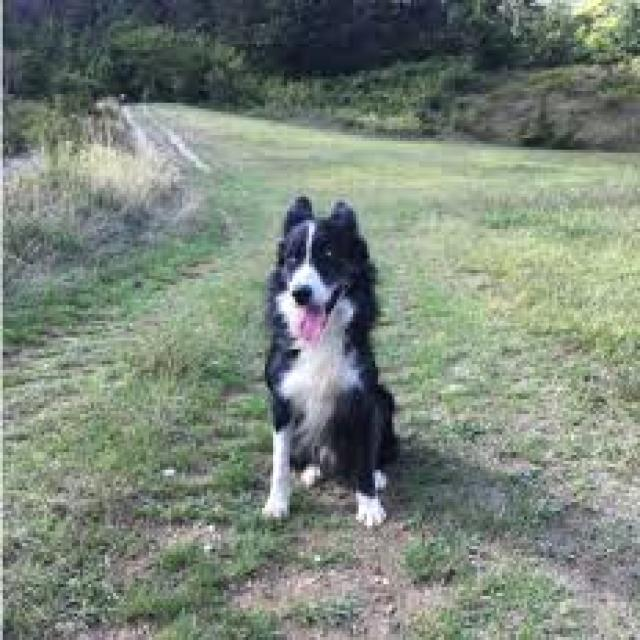BORDER_COLLIE: (236, 184, 427, 556)
